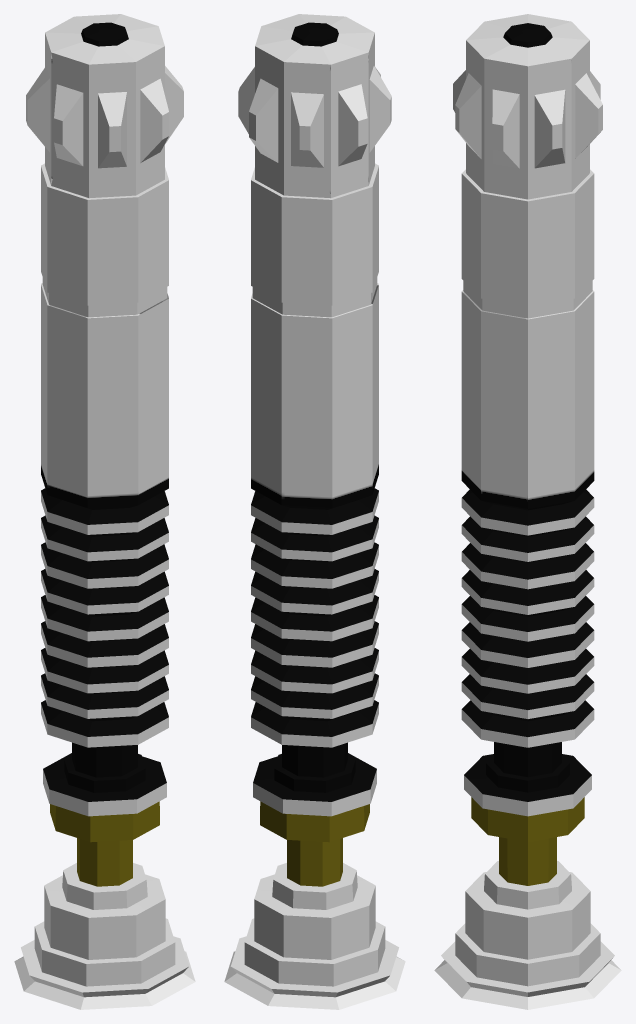
Rendered from kenobi_off.fbx.
3 views of the same model, side by side, from view 1: azimuth 30°, elevation 25°; view 2: azimuth 150°, elevation 25°; view 3: azimuth 270°, elevation 25° (orthographic).
Visible parts, largest first — view 1: Cylinder; view 2: Cylinder; view 3: Cylinder.
Part boxes in pixels (box(x1,y1,x2,y2)): Cylinder: box(14, 14, 195, 1009); Cylinder: box(224, 14, 405, 1009); Cylinder: box(434, 14, 621, 1009).
Bounding box in the file's own units: 0.0424 × 0.2346 × 0.0424.
